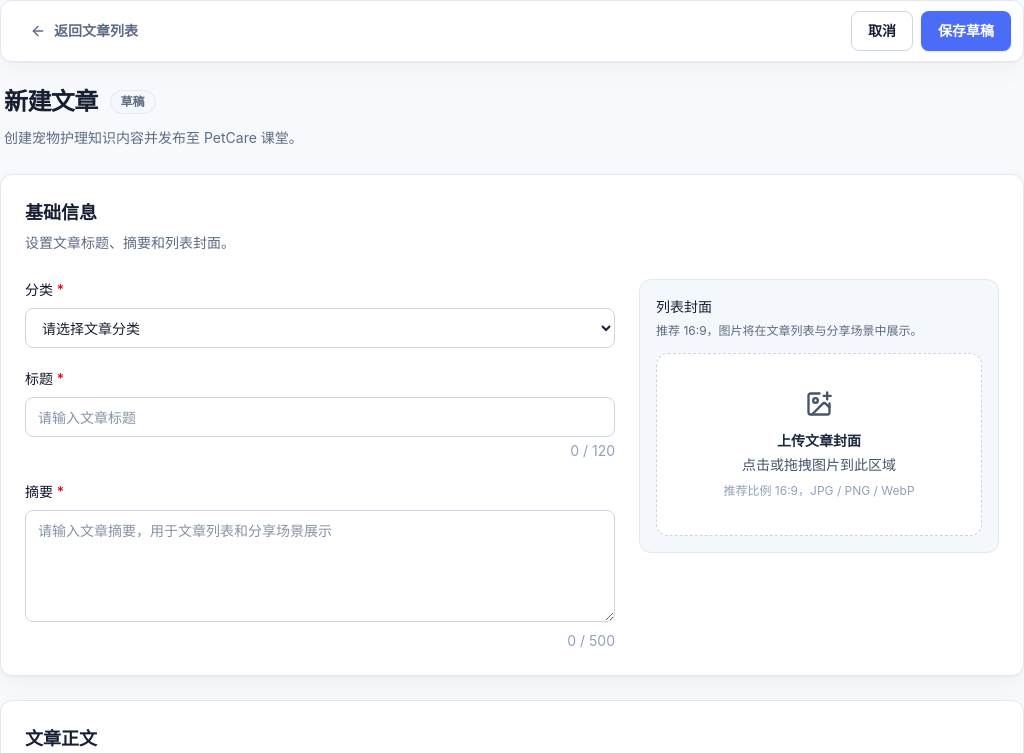
Scenario: ContentArticleEdit › renders inline required-field errors without sending an invalid draft
Click the button "保存草稿".
click(966, 31)  # box top-left (921, 11), bottom-right (1011, 51)
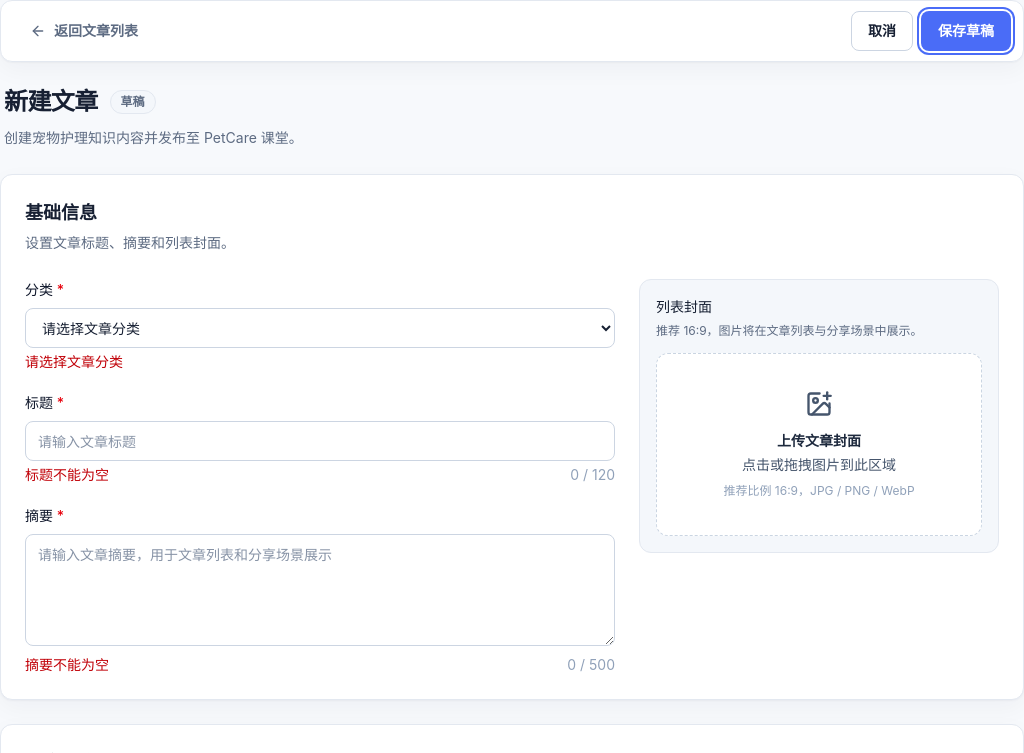
Now the text "请选择文章分类" is shown, box top-left (25, 353), bottom-right (123, 370)
Now the text "标题不能为空" is shown, box top-left (25, 465), bottom-right (109, 485)
Now the text "摘要不能为空" is shown, box top-left (25, 655), bottom-right (109, 675)
